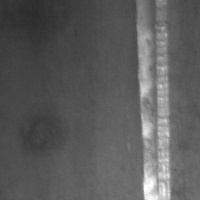scratches: (131, 1, 175, 199)
